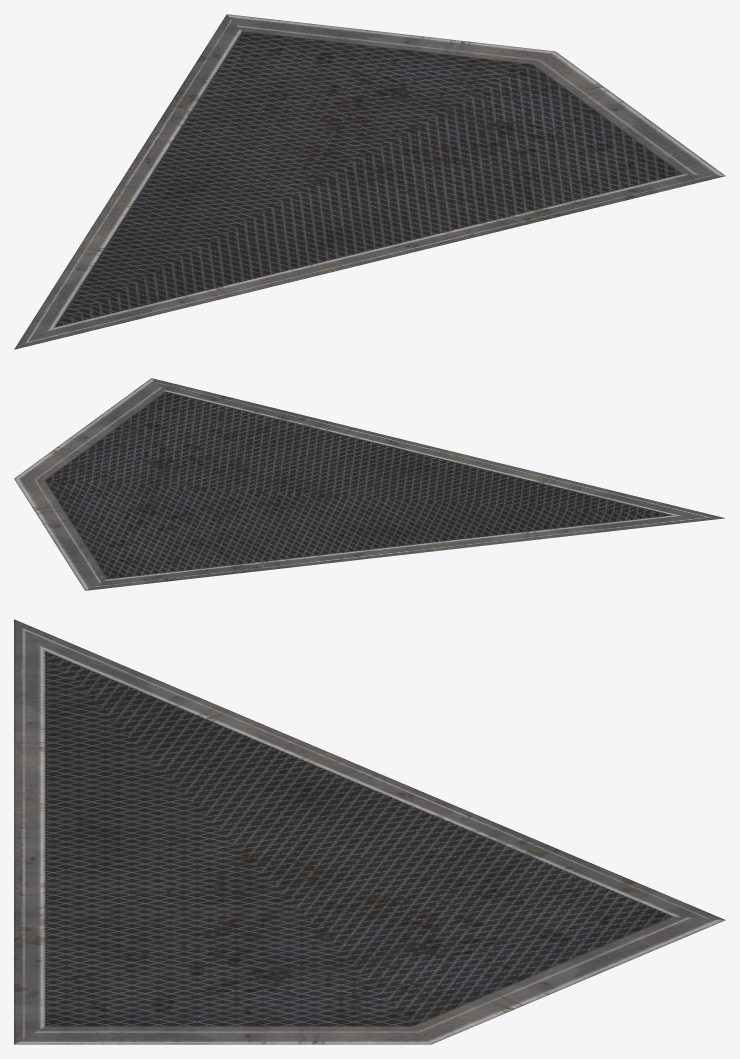
Rendered from Floor_A_5mts_00.fbx.
3 renders of one model, top to bottom at view 1: azimuth 30°, elevation 25°; view 2: azimuth 150°, elevation 25°; view 3: azimuth 270°, elevation 25°, orthographic. The views are drawn at different scales.
Parts seen in each view (by area): view 1: Floor_A_5mts_00; view 2: Floor_A_5mts_00; view 3: Floor_A_5mts_00.
Boxes of the visible parts, box(x1,y1,x2,y2) form: Floor_A_5mts_00: box(14, 14, 725, 349); Floor_A_5mts_00: box(14, 378, 724, 590); Floor_A_5mts_00: box(14, 619, 725, 1044).
Bounding box in the file's own units: 241 × 2.86e-05 × 171.
1 material, 1 textured.
